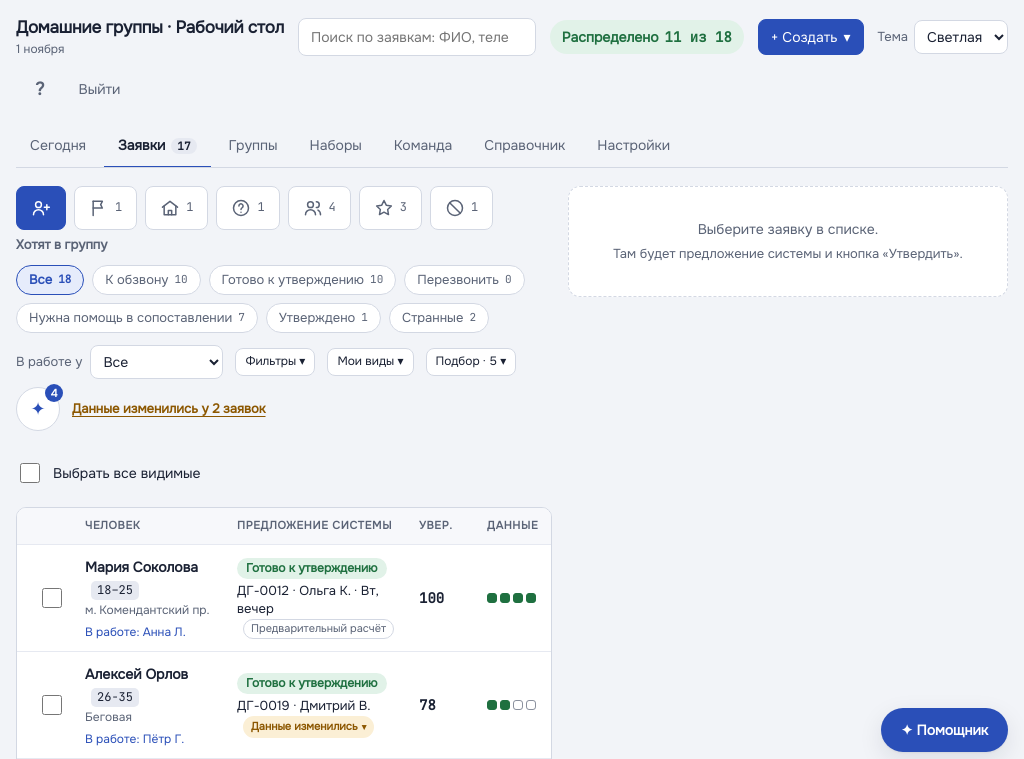
it: «Заявки»: отбор «В работе у» (экран) › поиск в шапке находит заявку по ответственному и по комментарию
The width and height of the screenshot is (1024, 759).
Type "звонить после" into the search field labelled "Поиск по заявкам" at point(417, 37), box [298,18,536,56]
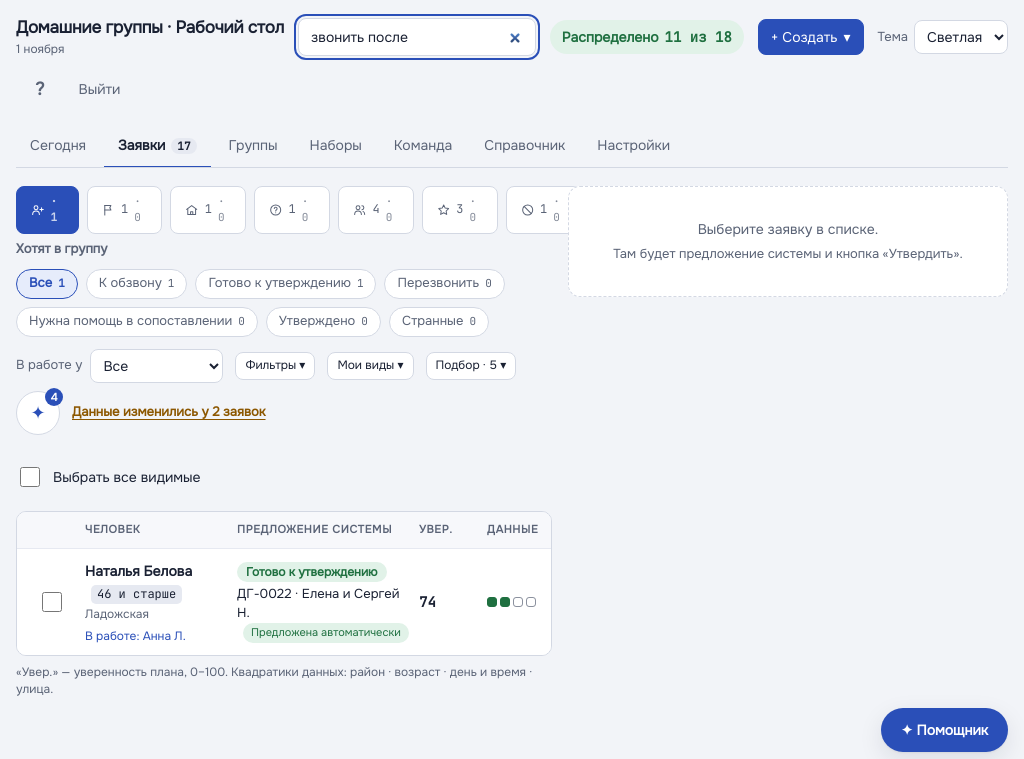
Expected: the button "Наталья Белова" is shown, [85,559,192,583]
Now the number of list items is 1, box [17,548,551,655]
Replace the text in the search field named "Поиск по заявкам" with "пётр г" at point(417, 37), box [298,18,536,56]
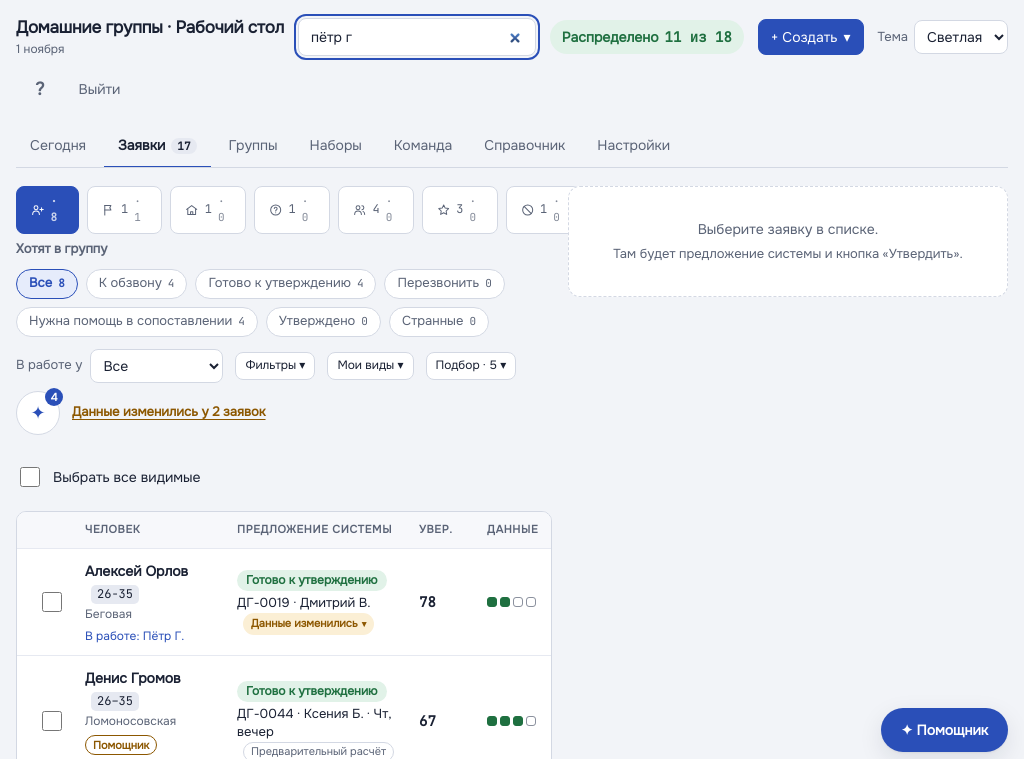
Now the number of list items is 8
